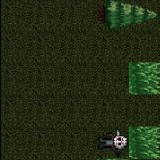Jason: (96, 128, 128, 158)
Obstacle: (95, 0, 128, 31)
Slow: (128, 125, 160, 158), (128, 62, 160, 94)
